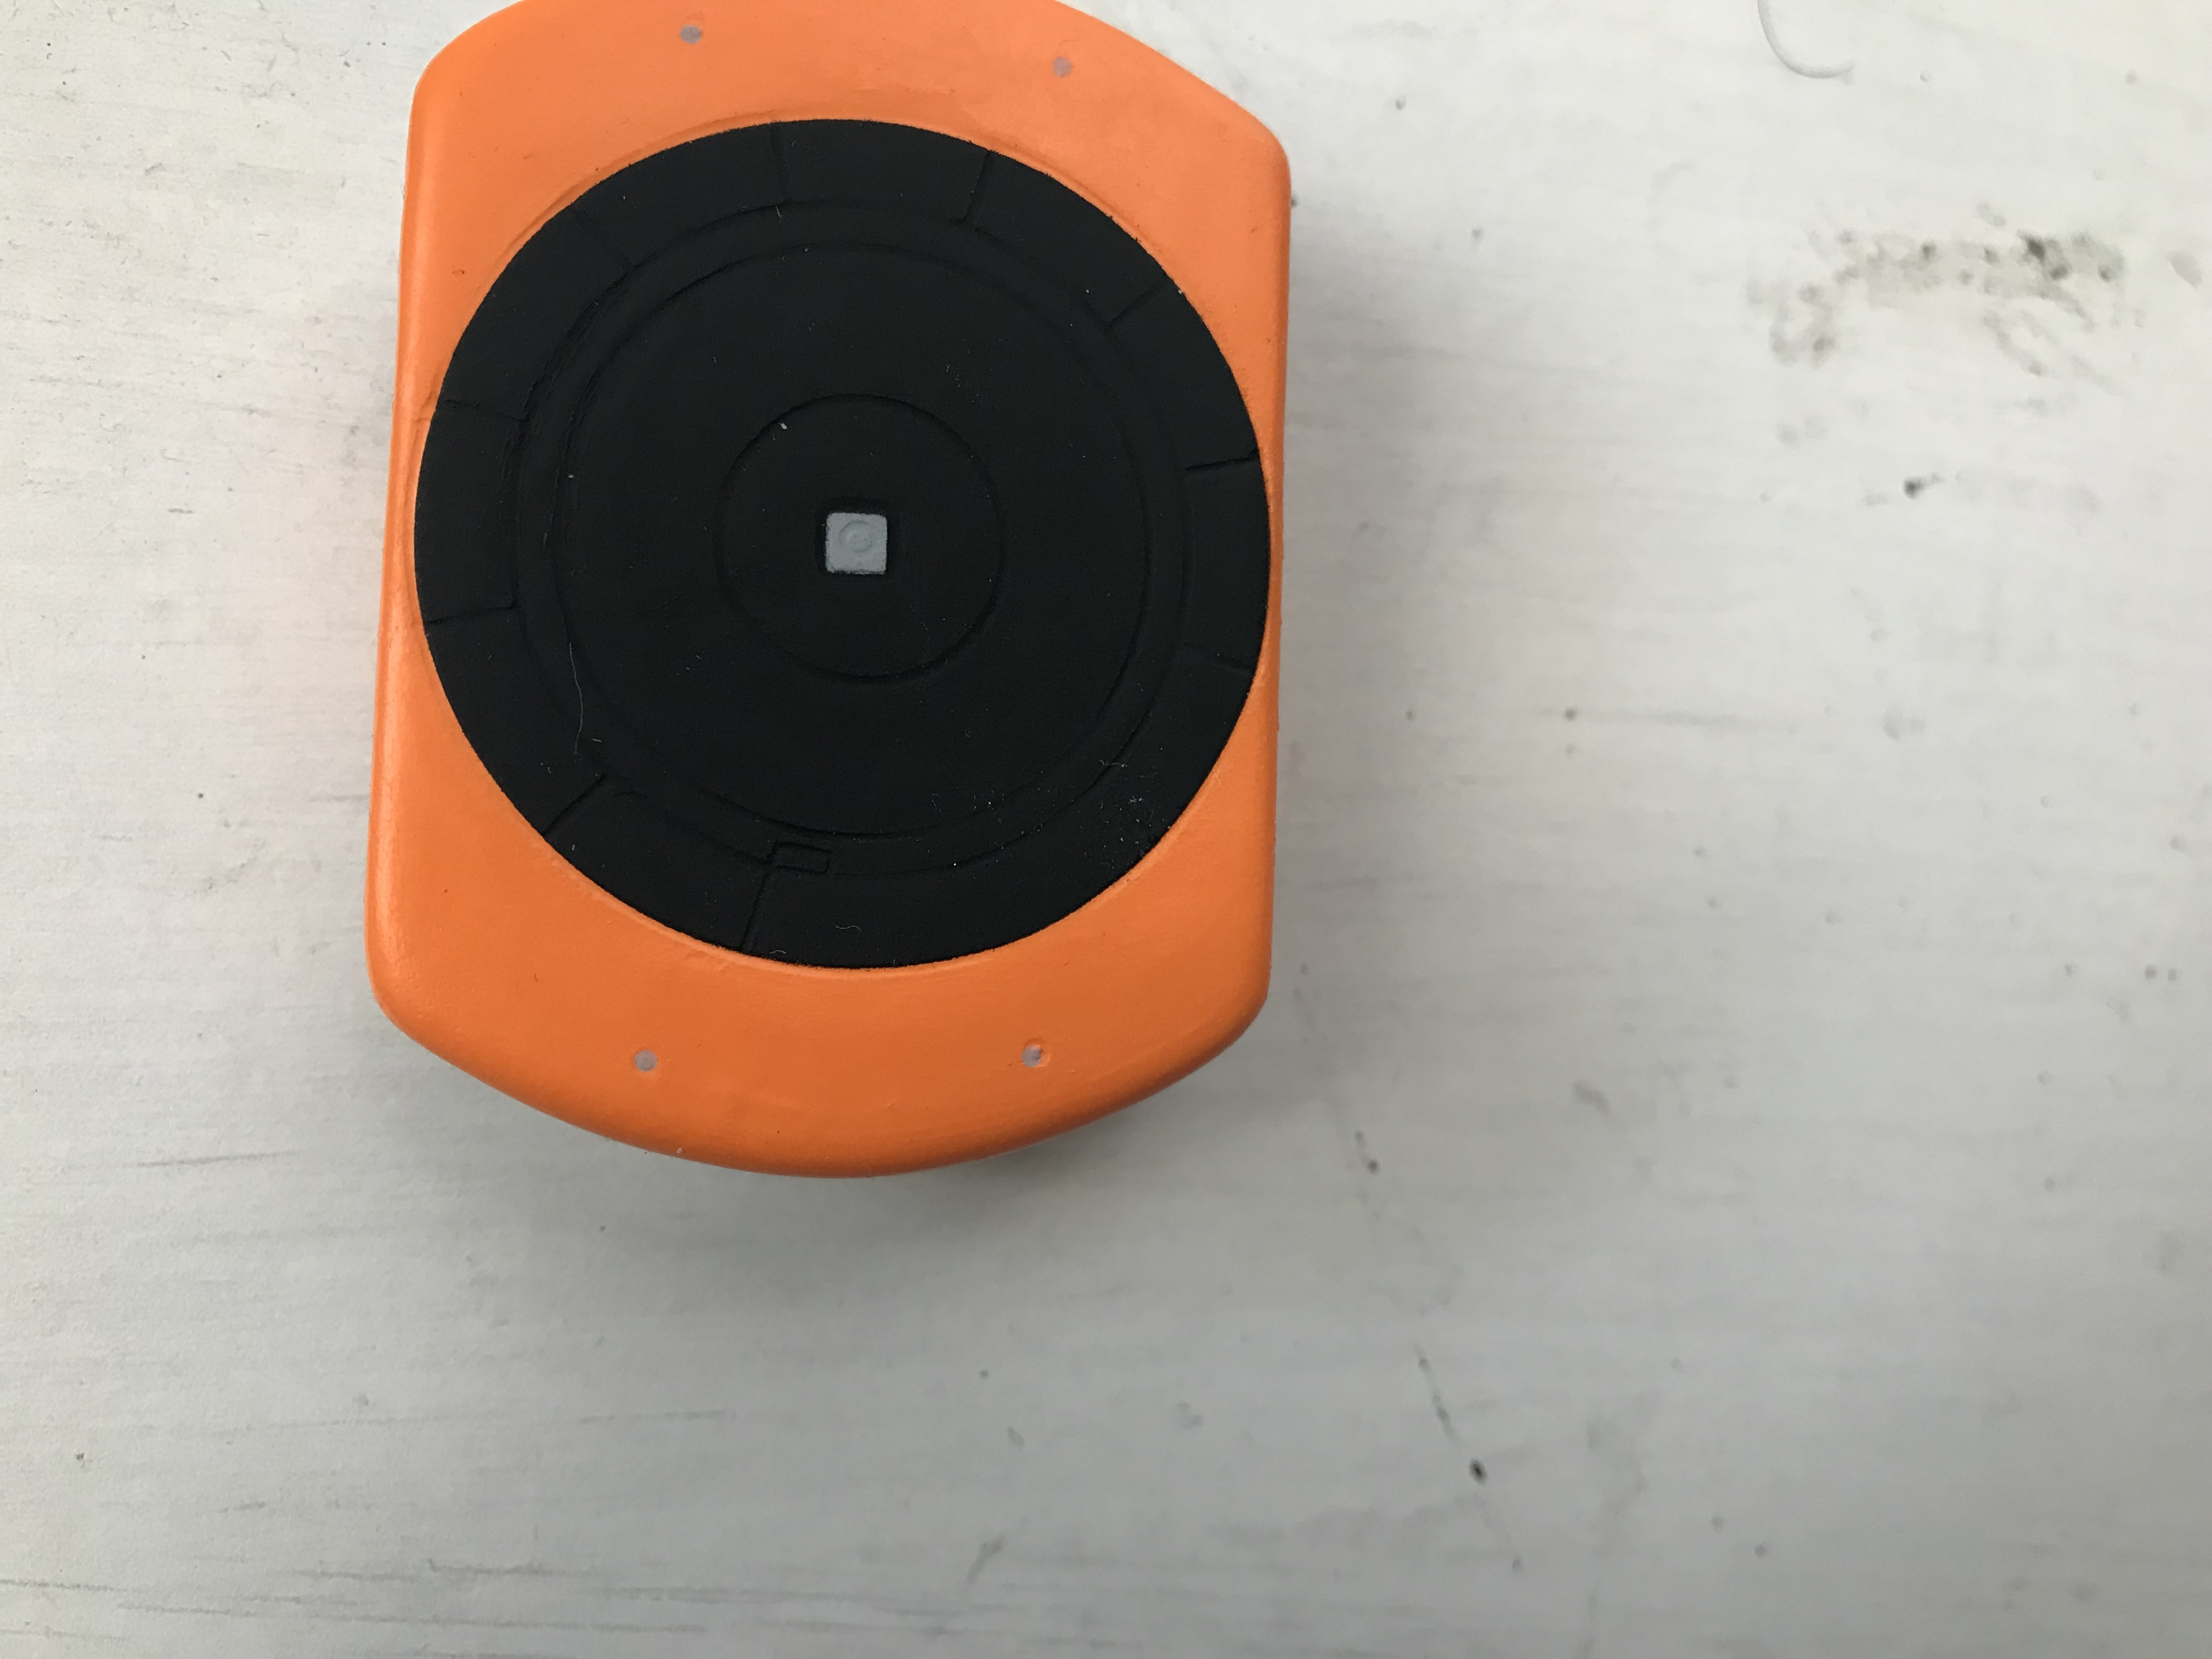amazon_bot: (254, 5, 1312, 1204)
